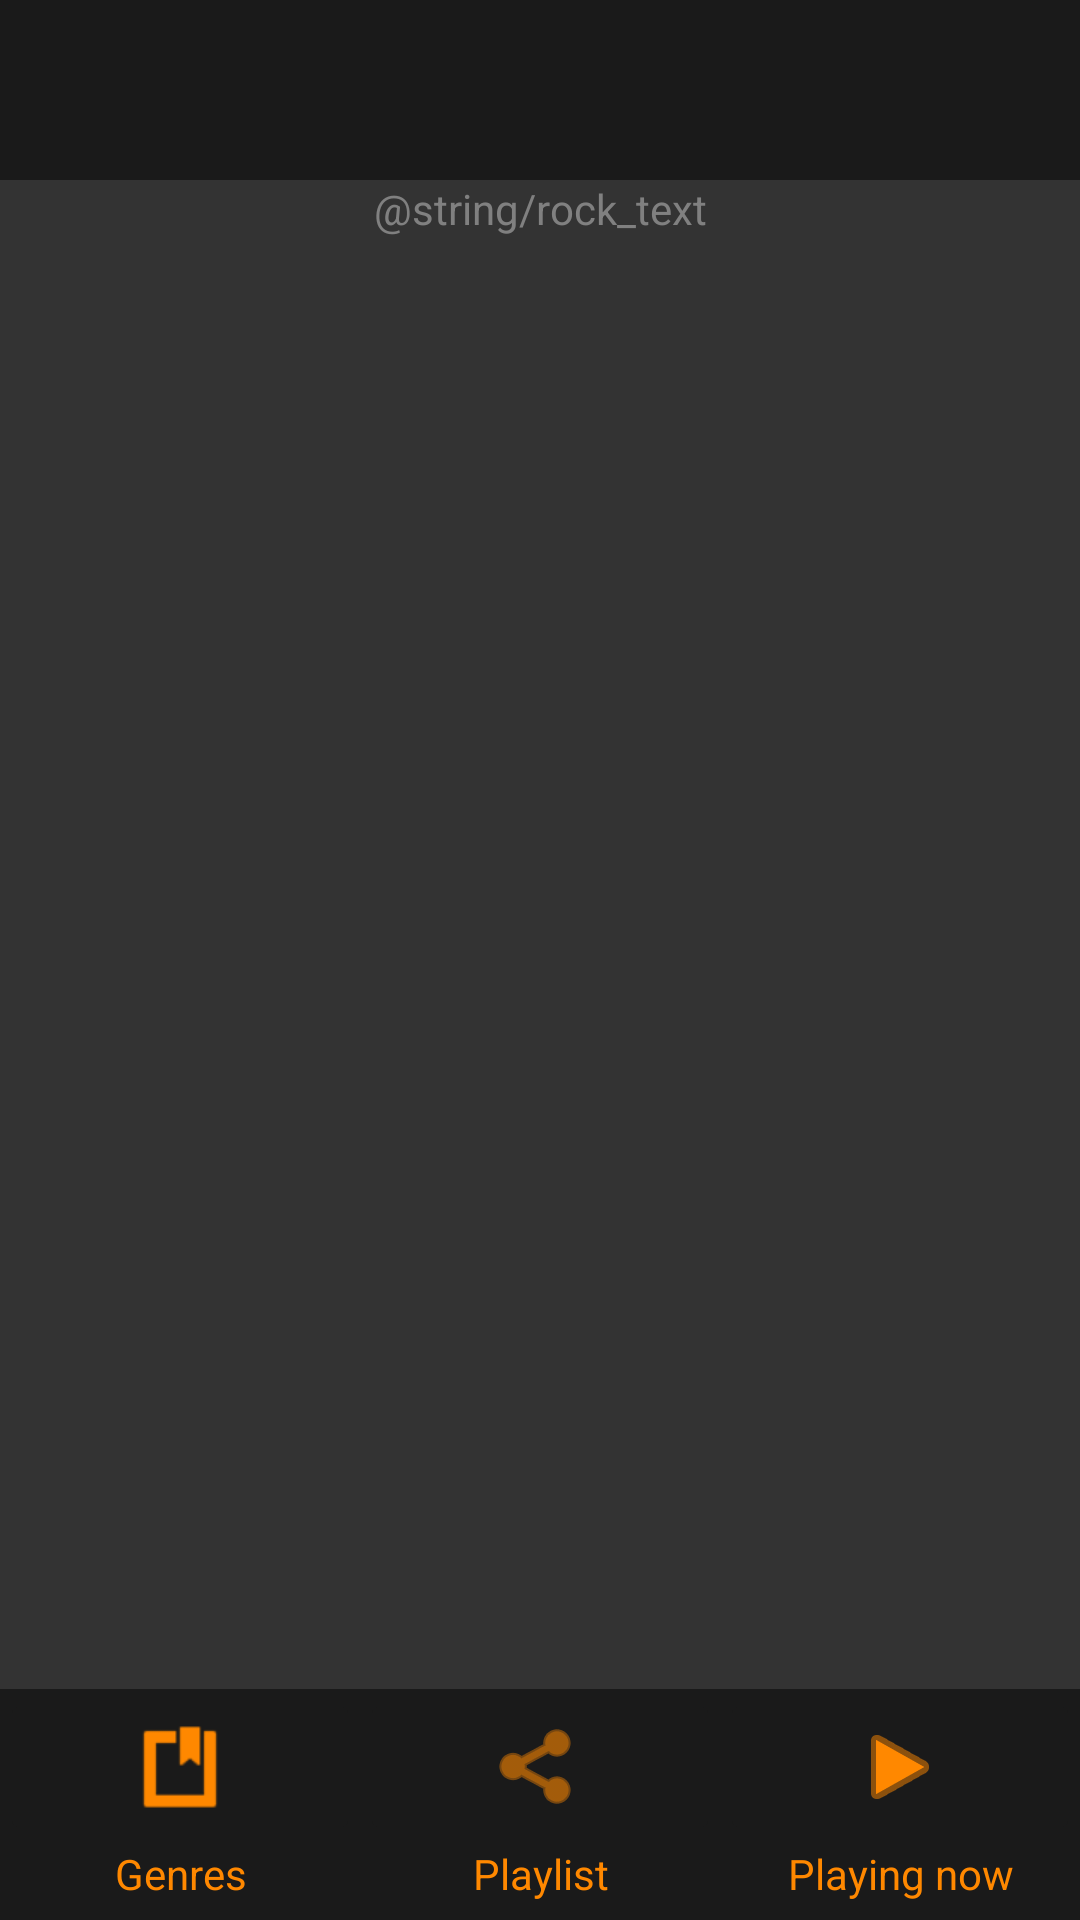

Icon click points for this 1080 × 1920 phone screenshot, format point (x, y):
share: point (535, 1766)
